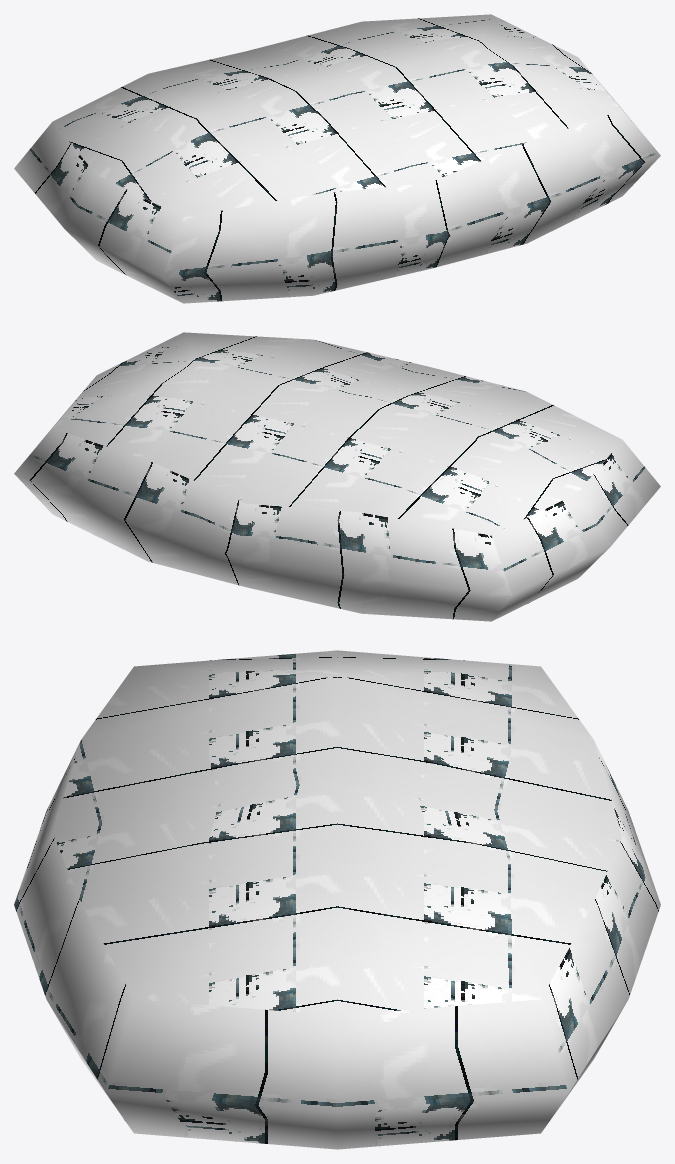
Rendered from Pillow.FBX.
3 views of the same model, one above another, from view 1: azimuth 30°, elevation 25°; view 2: azimuth 150°, elevation 25°; view 3: azimuth 270°, elevation 25° (orthographic). The views are drawn at different scales.
Parts seen in each view (by area): view 1: Pillow; view 2: Pillow; view 3: Pillow.
Part boxes in pixels (<box>): Pillow: <box>14,14,660,303</box>; Pillow: <box>14,332,660,621</box>; Pillow: <box>14,650,660,1149</box>.
Bounding box in the file's own units: 1.77 × 1.17 × 0.5253.
Materials: 1 (1 with a texture image).
